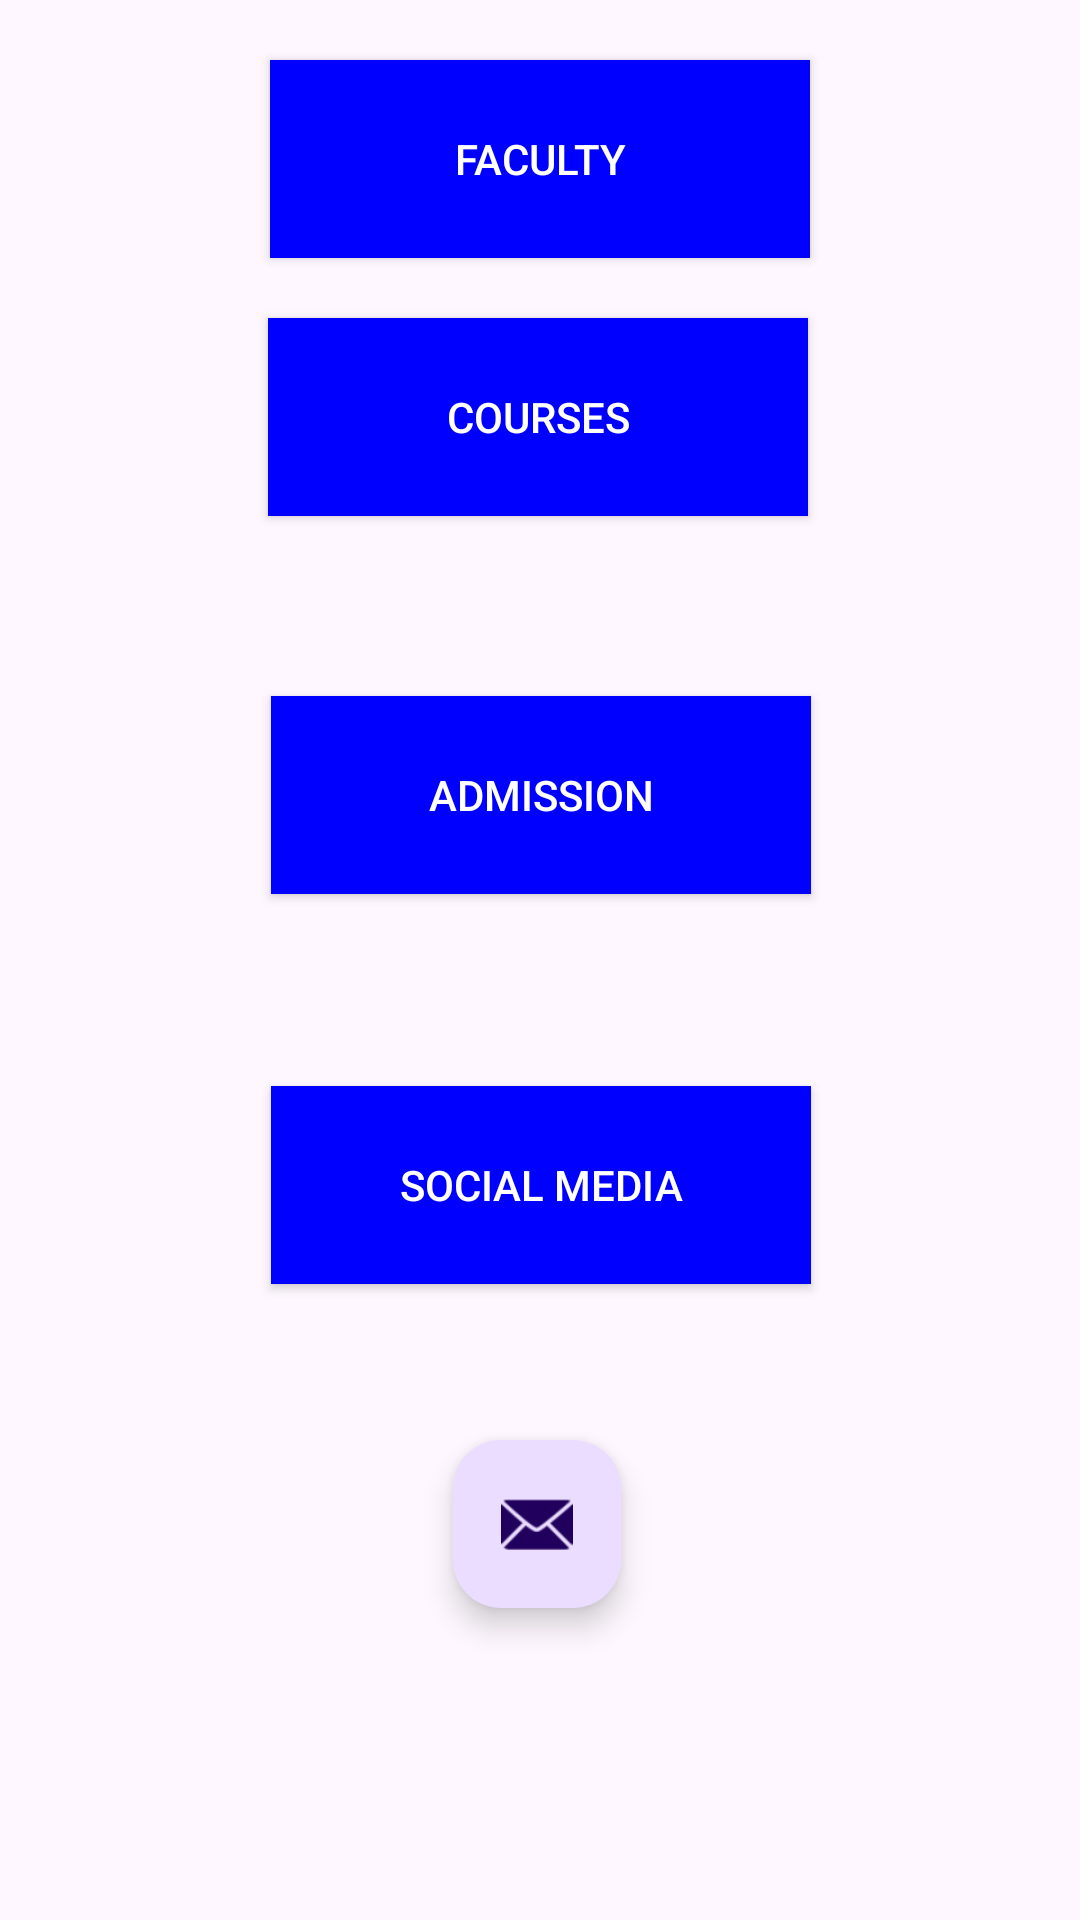

Locate icon controls on the screen. Image size 1080px×1920px, boxes as bbox=[x1, y1, x2, y2].
email: bbox=[453, 1440, 621, 1608]
